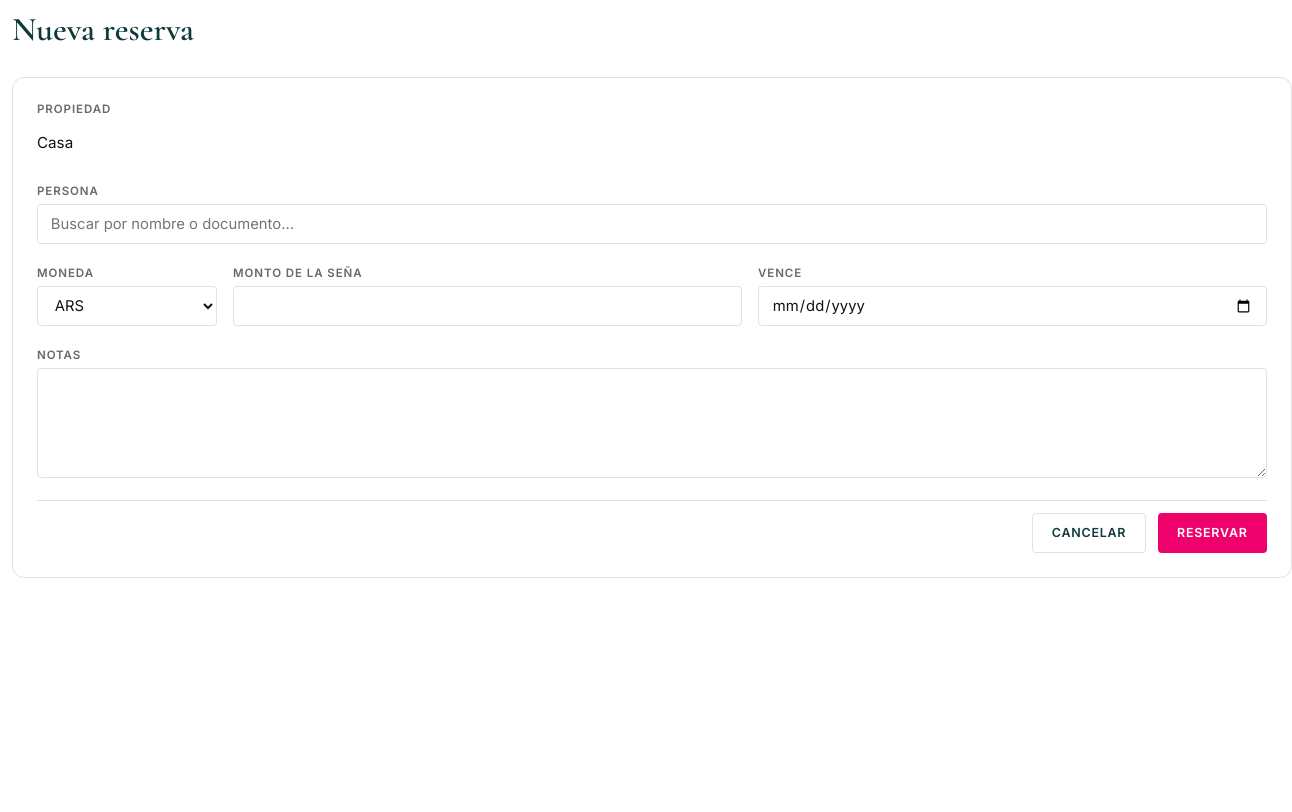
Scenario: muestra el 409 del backend tal cual
Expected: the text "Casa" is shown, [37, 132, 73, 152]
Type "Ana" into the dropdown labelled "Persona". click: (652, 224)
box: [37, 204, 1267, 244]
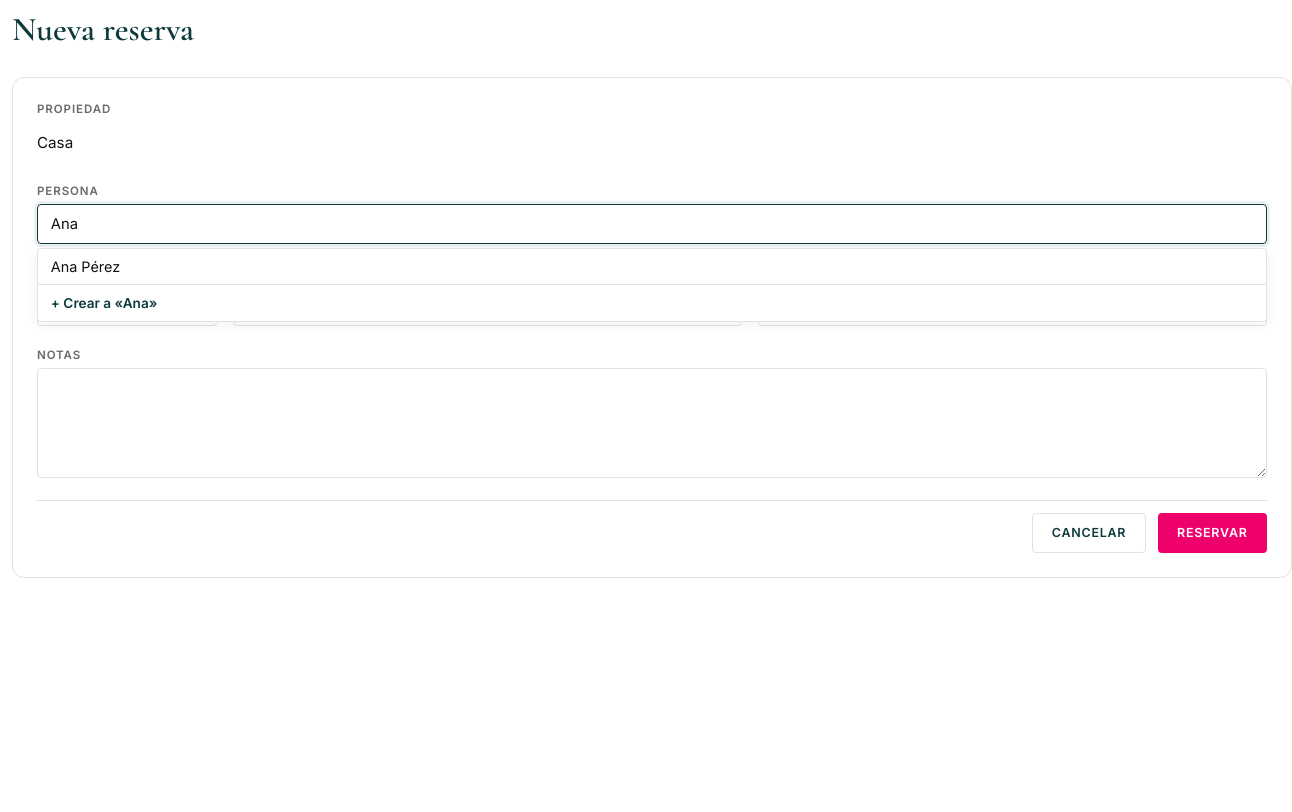
Click the option "Ana Pérez". click: (86, 266)
box: [51, 258, 120, 275]
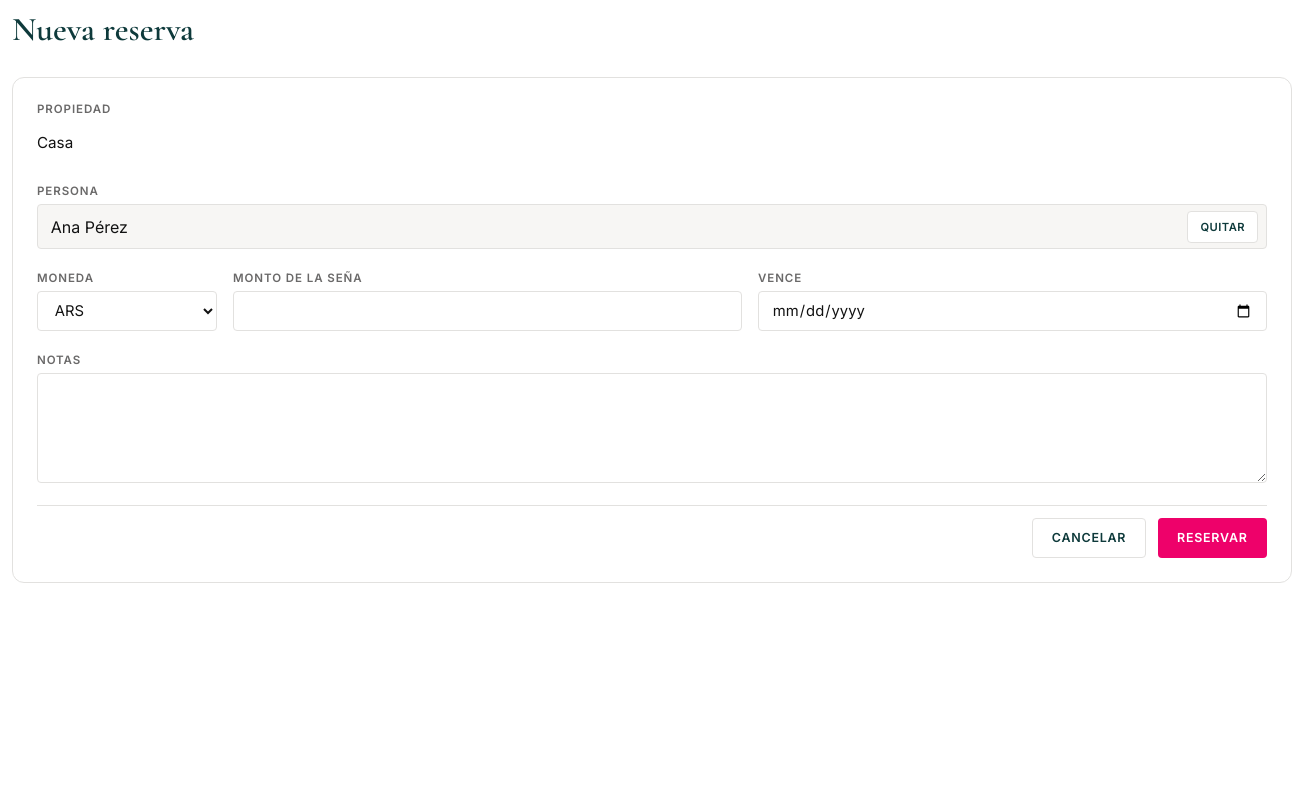
Click the button "Reservar". click: (1212, 538)
box: [1158, 518, 1267, 558]
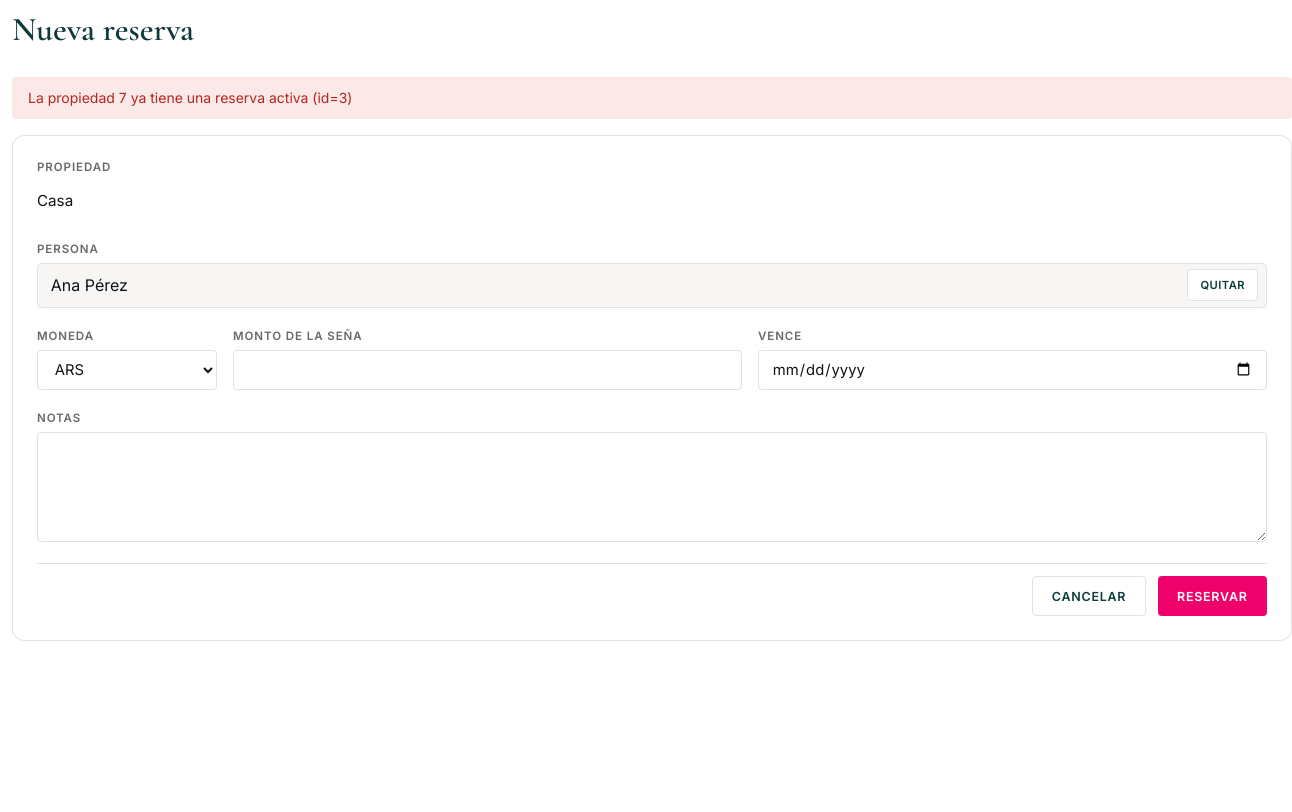
Expected: the text "La propiedad 7 ya tiene una reserva activa (id=3)" is shown, [12, 77, 1291, 119]
